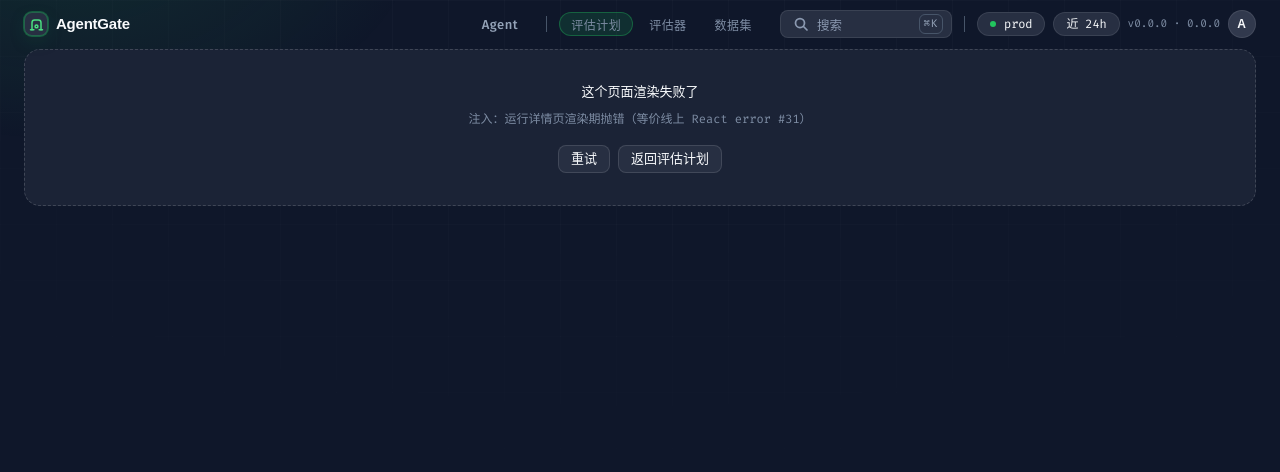
路由级围栏：页面炸了不带走顶栏 › 「返回评估计划」按钮同样能走出降级态
Click the button with test id "route-boundary-home".
click(670, 159)  # box [618,145,722,173]
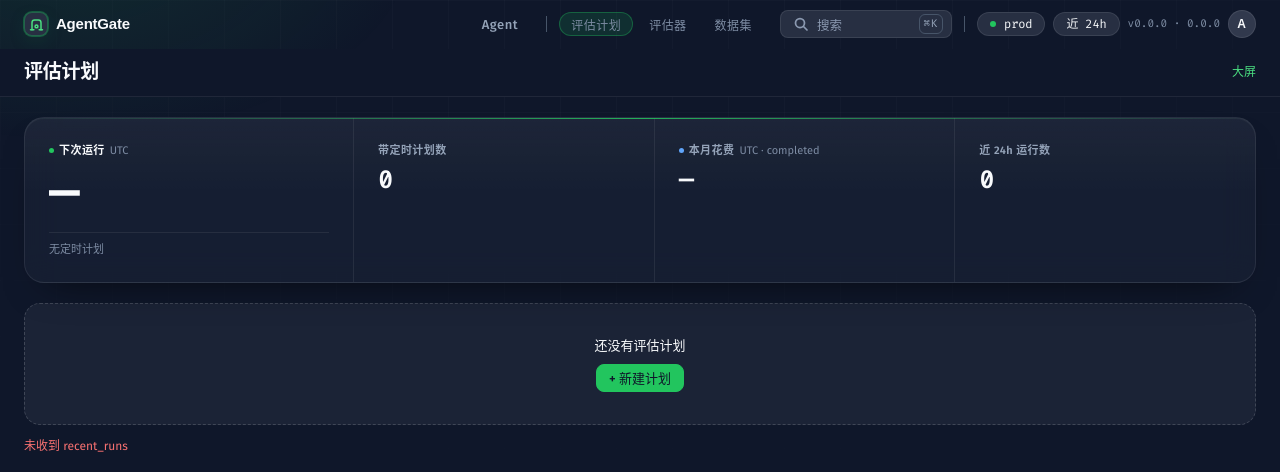
Expected: the element with test id "page-workbench" is shown
Expected: the message with test id "route-boundary" is gone
